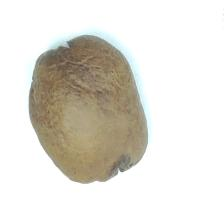NG: (27, 34, 125, 98)
